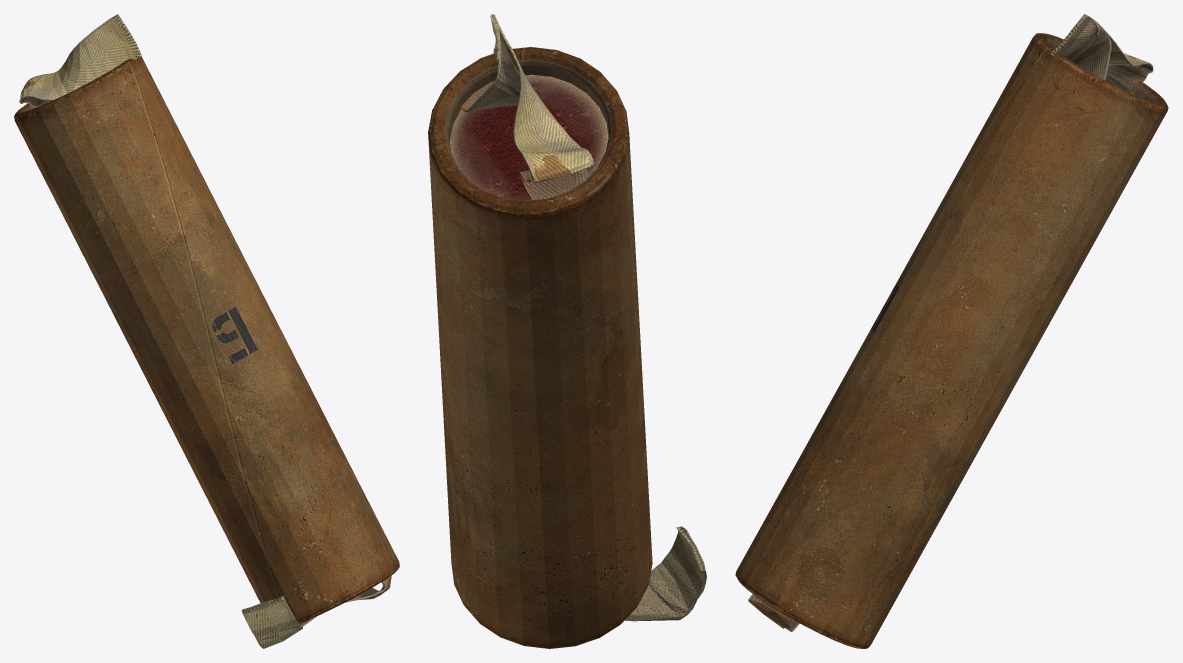
3 views of the same model, side by side, from view 1: azimuth 30°, elevation 25°; view 2: azimuth 150°, elevation 25°; view 3: azimuth 270°, elevation 25° (orthographic). The views are drawn at different scales.
Parts seen in each view (by area): view 1: TW_5a2a57cfc4a2826c6e06d44a_PZ_Import; view 2: TW_5a2a57cfc4a2826c6e06d44a_PZ_Import; view 3: TW_5a2a57cfc4a2826c6e06d44a_PZ_Import.
Boxes of the visible parts, x1,y1,x2,y2 form: TW_5a2a57cfc4a2826c6e06d44a_PZ_Import: (14,14,399,648); TW_5a2a57cfc4a2826c6e06d44a_PZ_Import: (428,14,706,648); TW_5a2a57cfc4a2826c6e06d44a_PZ_Import: (735,14,1168,648).
Size of the model in its own units: 0.0605 by 0.0875 by 0.1308.
Materials: 1 (1 with a texture image).
